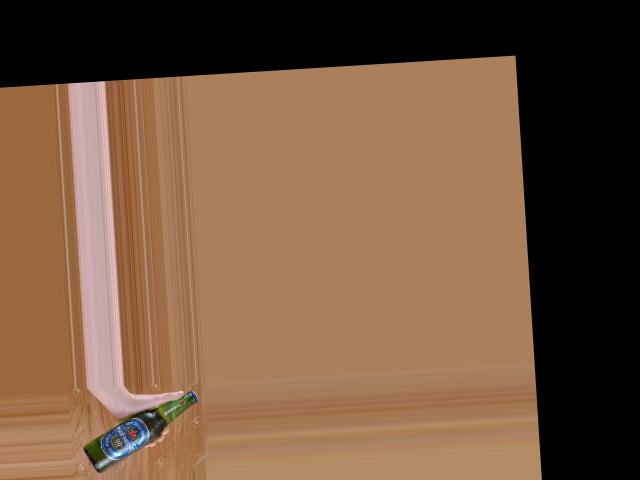beer: (79, 390, 202, 473)
